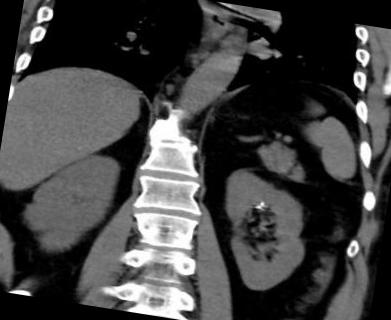Tas_Var: (252, 204, 263, 210), (258, 200, 266, 207)
